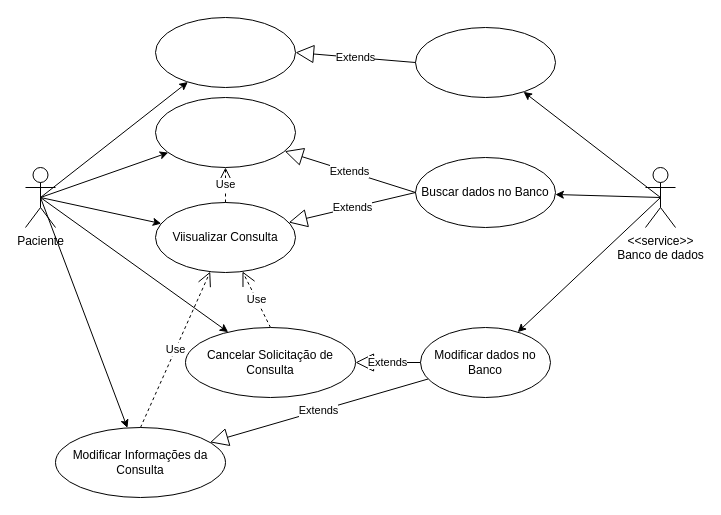
Some shapes in this 721 by 515 pixel diagram are drawn without their labels. The shapes that lost their labels are listed below. From the top down, each one's centre as x and y in pixels, then its label:
(225,52): Solicitar Consulta
(485,62): Escrever no Banco
(225,132): Viisualizar Todas as Consultas
